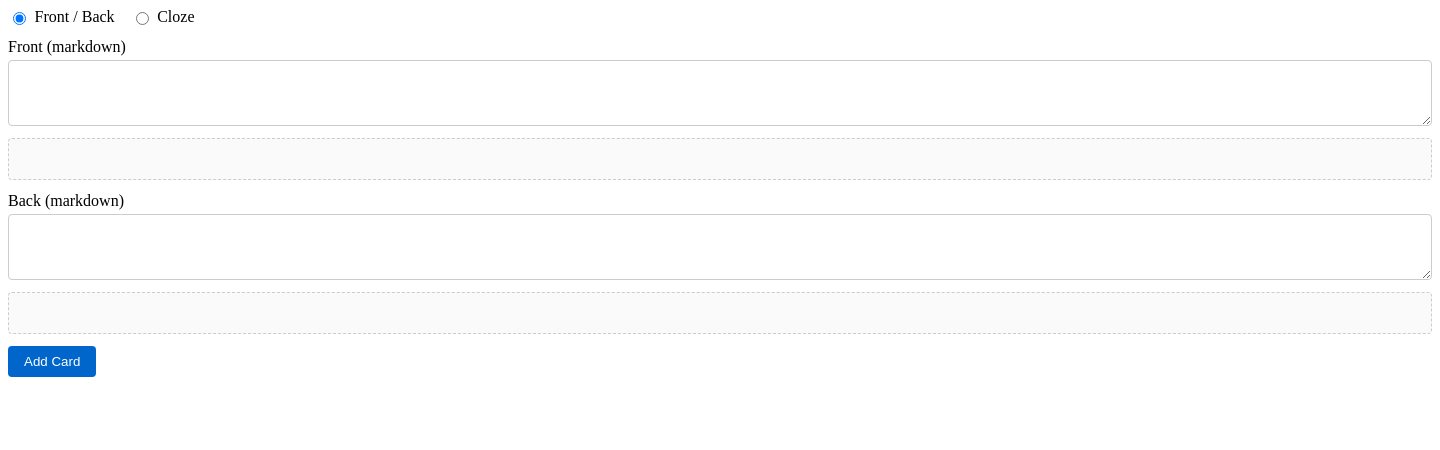
Test: CardEditor › blocks submission when back content is empty
In the text box labelled "Front (markdown)": (720, 93) x1=8 y1=60 x2=1432 y2=126, type "Question"
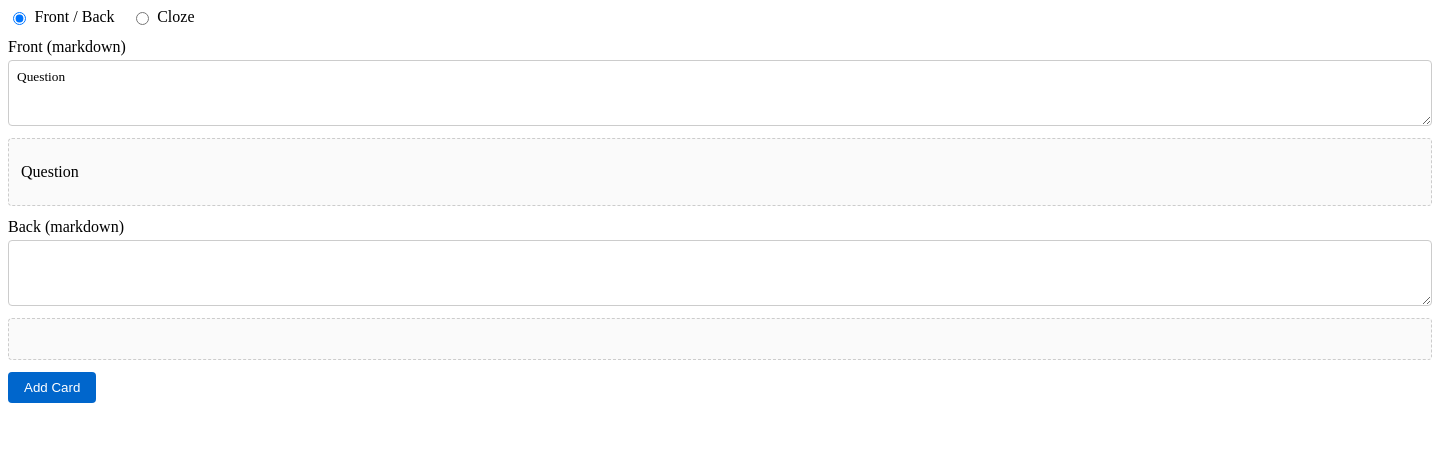
Click the button "Add Card": click(52, 388) x1=8 y1=372 x2=96 y2=403
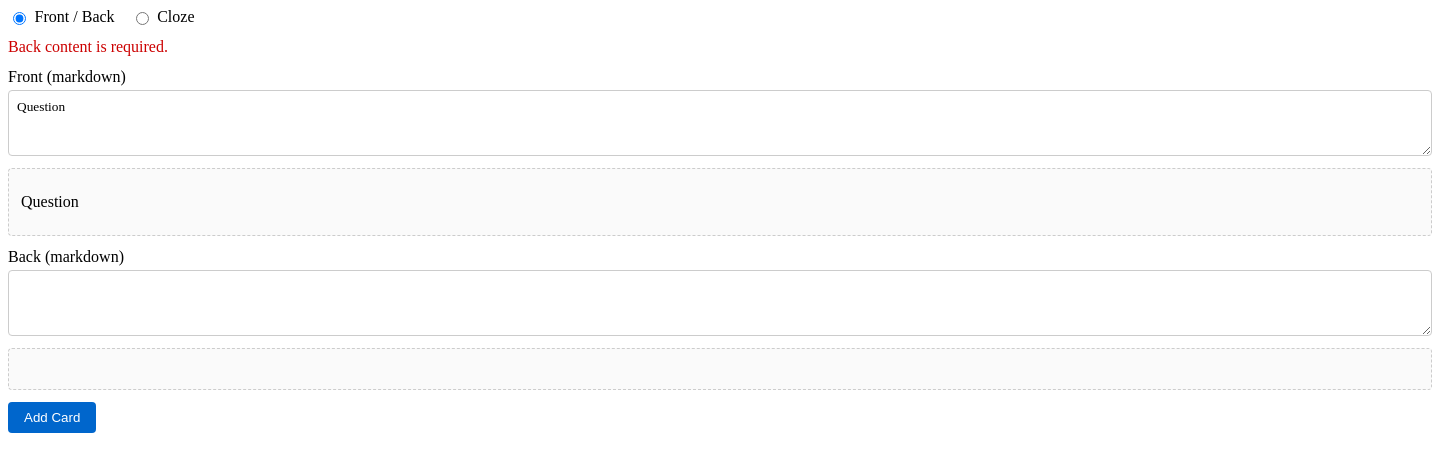
Now the text "Back content is required." is shown, box x1=8 y1=38 x2=168 y2=55
